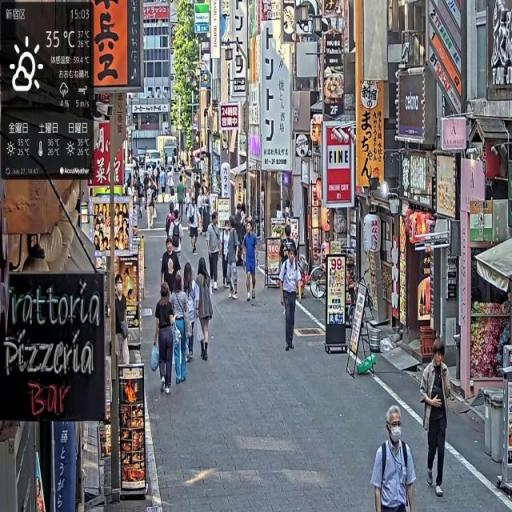person: (420, 338, 452, 499), (371, 406, 419, 512), (170, 270, 194, 387), (280, 242, 304, 355), (154, 284, 177, 398), (196, 261, 215, 362), (244, 218, 261, 304), (225, 218, 241, 300), (161, 239, 183, 298), (208, 213, 224, 291), (188, 199, 202, 258)
